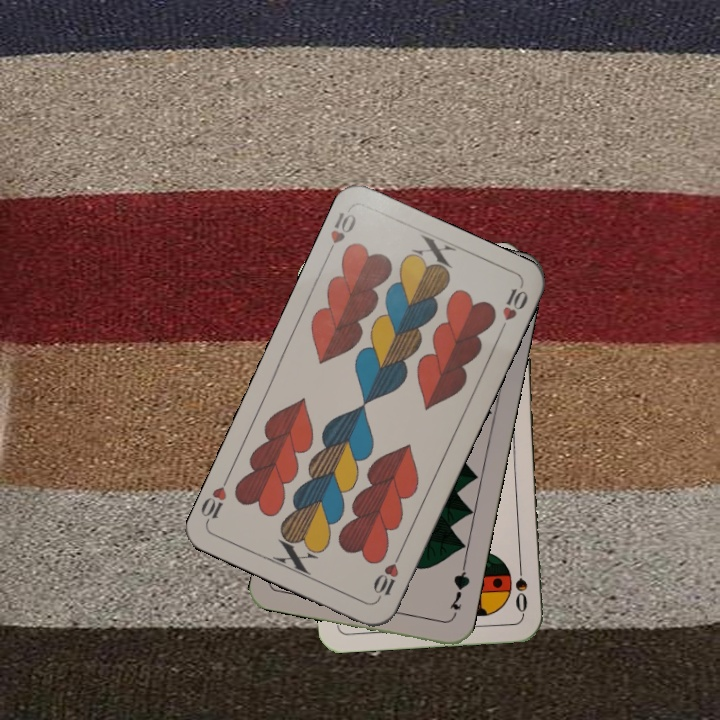G7: (445, 561, 473, 613)
H10: (322, 208, 359, 261), (369, 547, 404, 603)
SO: (511, 557, 530, 616)
